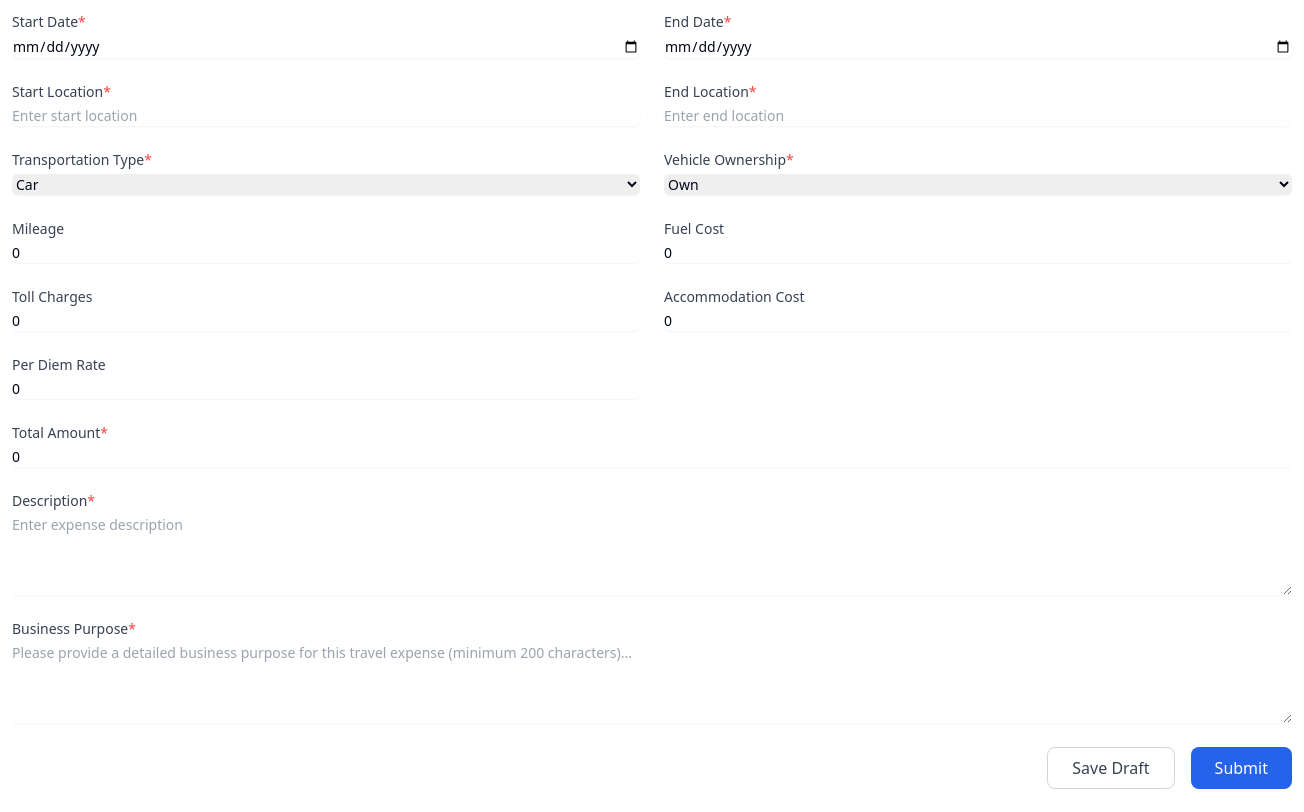
Test case: TravelExpenseForm › Validation › requires description field
What coordinates should you click on to do the following:
click the button "Submit"
I would click on:
 (1241, 768)
Its box is x1=1191 y1=747 x2=1292 y2=789.
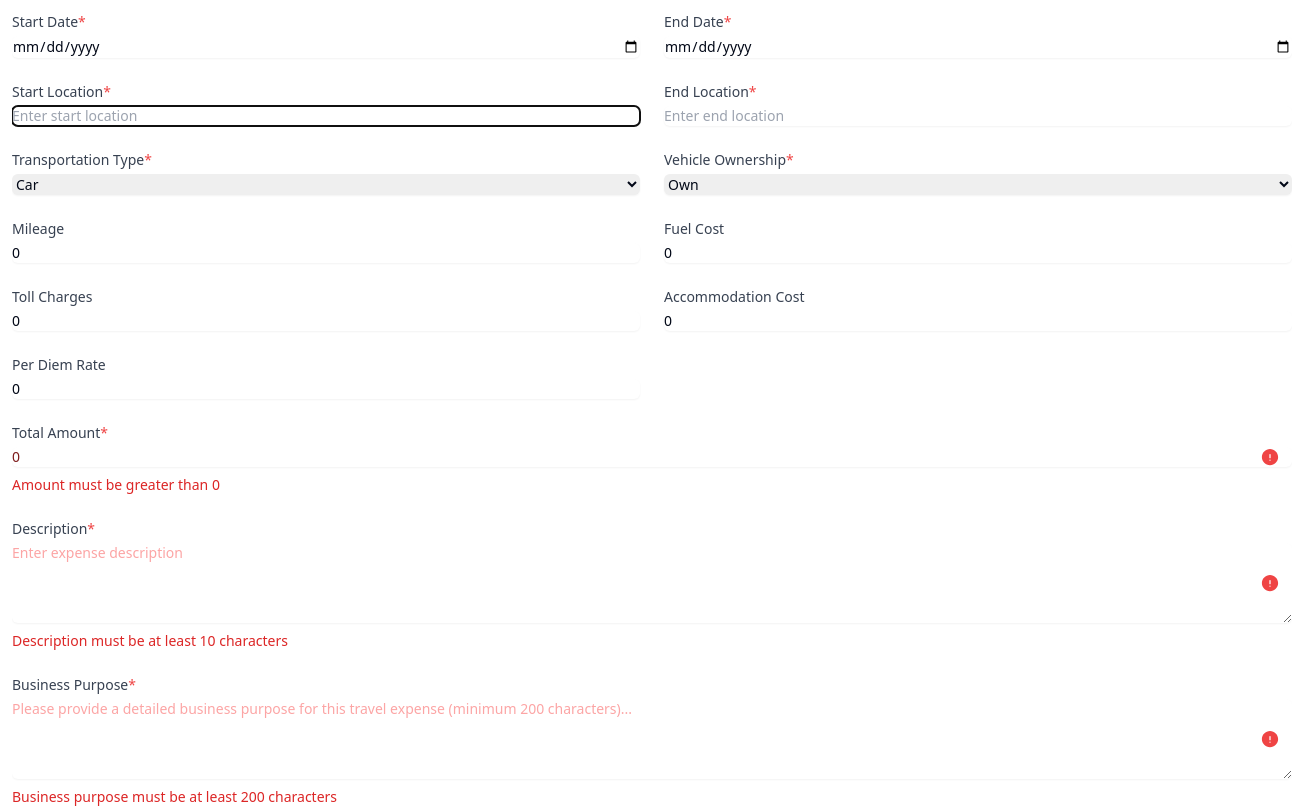
Expected: the text "Description must be at least 10 characters" is shown, x1=12 y1=631 x2=288 y2=650
